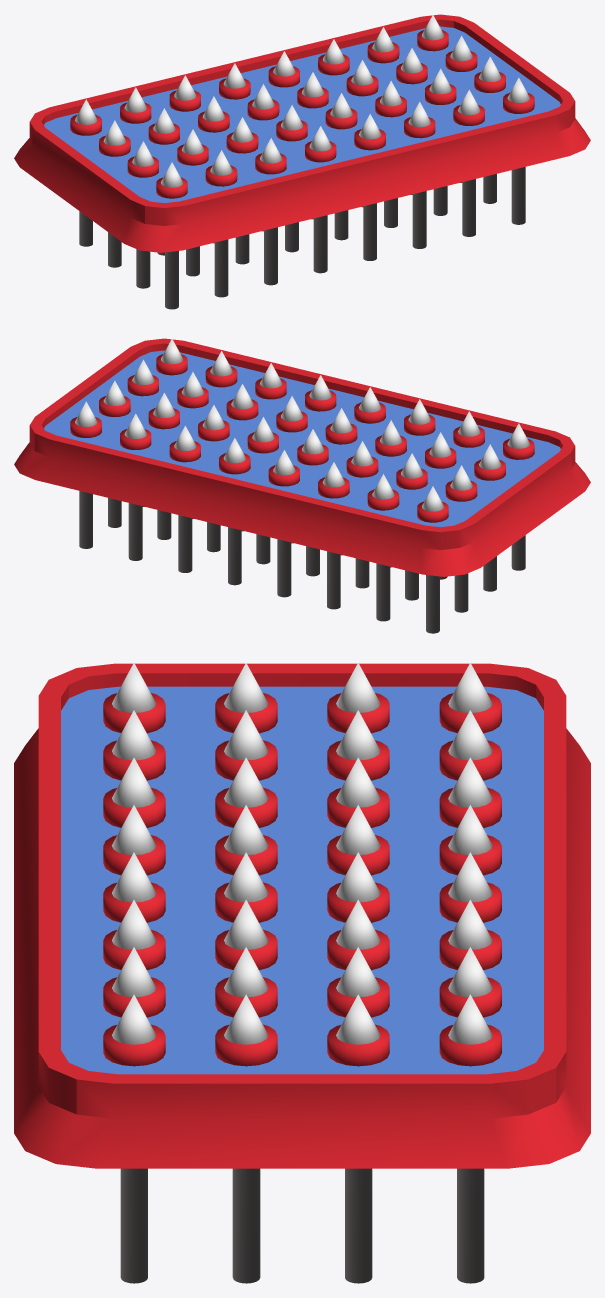
The model's file is Obstacle 7 V1.fbx.
3 views of the same model, one above another, from view 1: azimuth 30°, elevation 25°; view 2: azimuth 150°, elevation 25°; view 3: azimuth 270°, elevation 25° (orthographic). The views are drawn at different scales.
Visible parts, largest first — view 1: O7 Part 1, O7 Part 2; view 2: O7 Part 1, O7 Part 2; view 3: O7 Part 1, O7 Part 2.
Part boxes in pixels (box(x1,y1,x2,y2)): O7 Part 1: box(14, 14, 590, 252); O7 Part 2: box(70, 15, 534, 309); O7 Part 1: box(14, 338, 590, 576); O7 Part 2: box(70, 339, 534, 633); O7 Part 1: box(14, 663, 590, 1168); O7 Part 2: box(103, 662, 501, 1283).
Size of the model in its own units: 249 by 74.77 by 138.
1 material, 1 textured.
